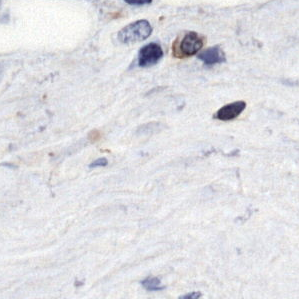Lymphocyte: (171, 30, 203, 58)
